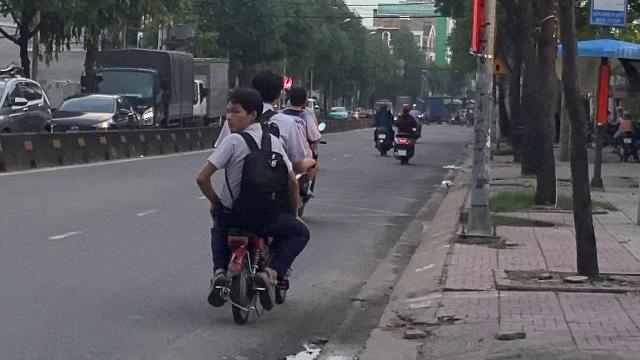motorcyclist: (196, 66, 324, 328)
nohelmet: (224, 86, 264, 132), (249, 70, 285, 106)
